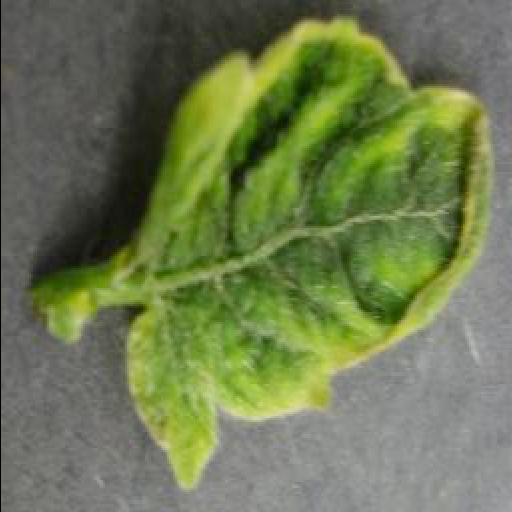disease_tomato: (122, 20, 496, 494)
